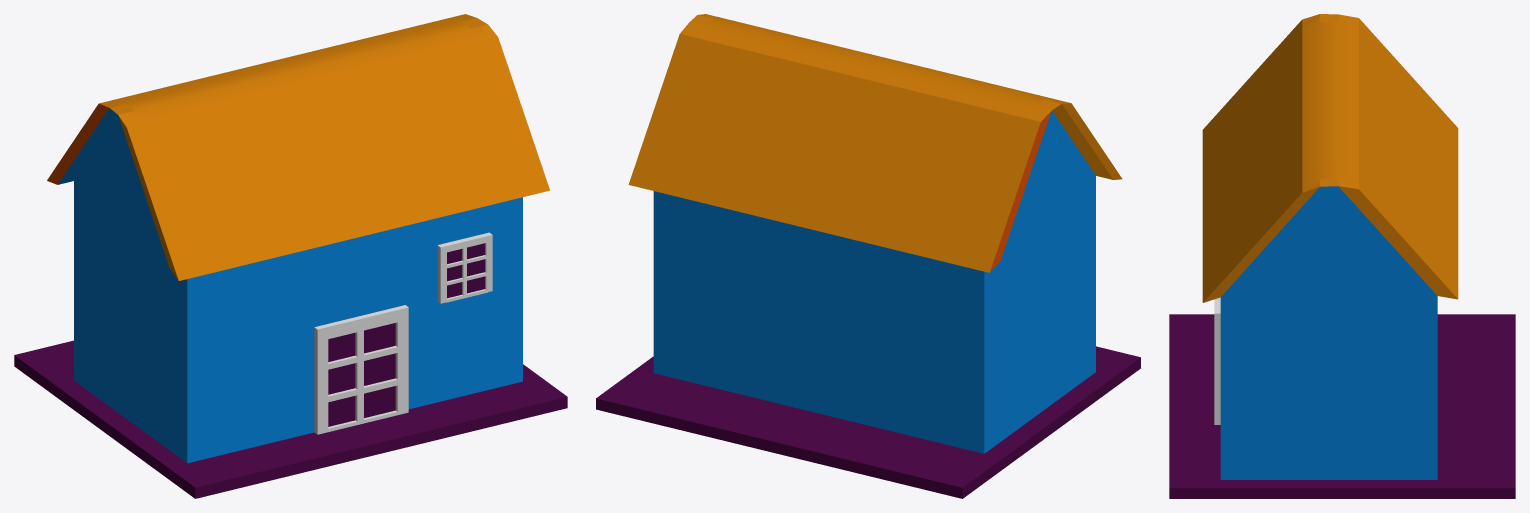
File: level14.1.fbx
3 renders of one model, left to right at view 1: azimuth 30°, elevation 25°; view 2: azimuth 150°, elevation 25°; view 3: azimuth 270°, elevation 25°, orthographic. The views are drawn at different scales.
Visible parts, largest first — view 1: polySurface74, polySurface96, polySurface97, polySurface83, polySurface82, polySurface99, polySurface85, polySurface84; view 2: polySurface74, polySurface96; view 3: polySurface74, polySurface96, polySurface85.
Part boxes in pixels (bbox=[...]): polySurface74: bbox=[47, 14, 549, 463]; polySurface96: bbox=[14, 340, 567, 498]; polySurface97: bbox=[328, 323, 395, 426]; polySurface83: bbox=[314, 327, 328, 434]; polySurface82: bbox=[316, 305, 408, 341]; polySurface99: bbox=[447, 243, 484, 298]; polySurface85: bbox=[395, 319, 408, 414]; polySurface84: bbox=[355, 330, 363, 424]; polySurface74: bbox=[628, 14, 1122, 453]; polySurface96: bbox=[596, 346, 1140, 498]; polySurface74: bbox=[1202, 14, 1458, 479]; polySurface96: bbox=[1169, 314, 1515, 498]; polySurface85: bbox=[1214, 367, 1220, 424].
Bounding box in the file's own units: 10.28 × 8.6 × 8.66.
